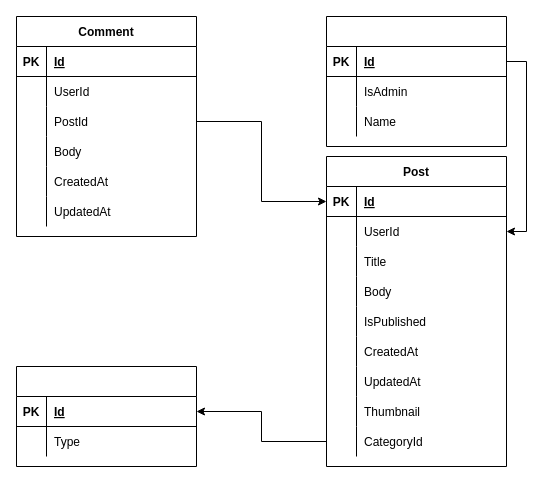
The diagram is 543 pixels wide and 483 high, and some of its shapes have lost their labels. Here are the shapes that lost their labels. From the top down, the box of each, then its label:
(326, 16, 506, 146): User
(16, 366, 196, 466): Category
